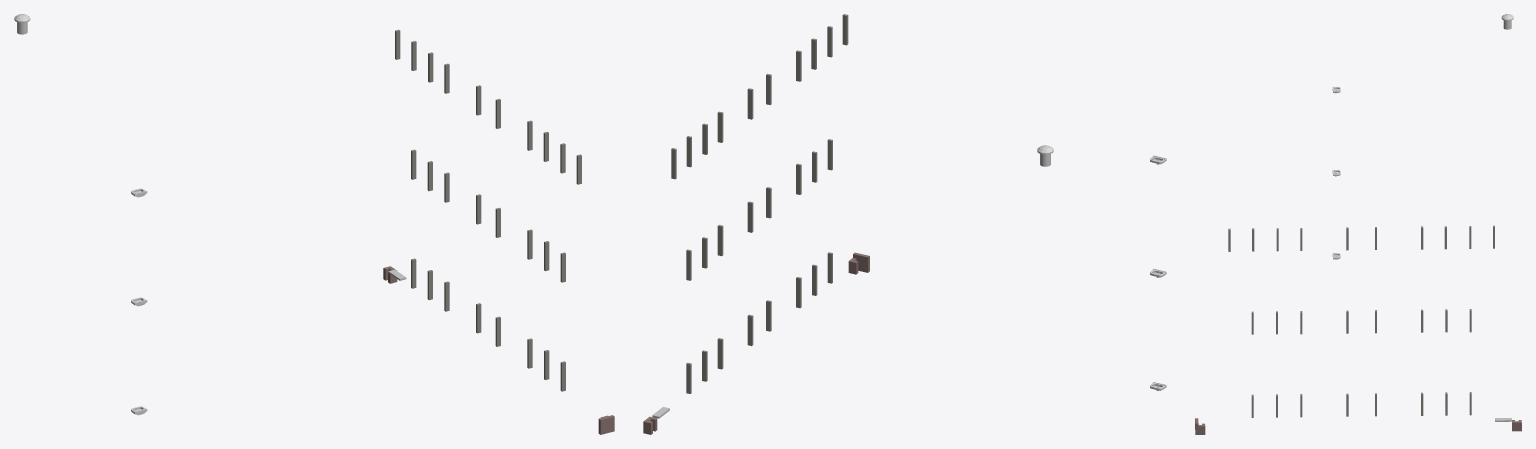
3 views of the same model, side by side, from view 1: azimuth 30°, elevation 25°; view 2: azimuth 150°, elevation 25°; view 3: azimuth 270°, elevation 25° (orthographic). The views are drawn at different scales.
Bounding box in the file's own units: 11.38 × 9.95 × 10.68.
